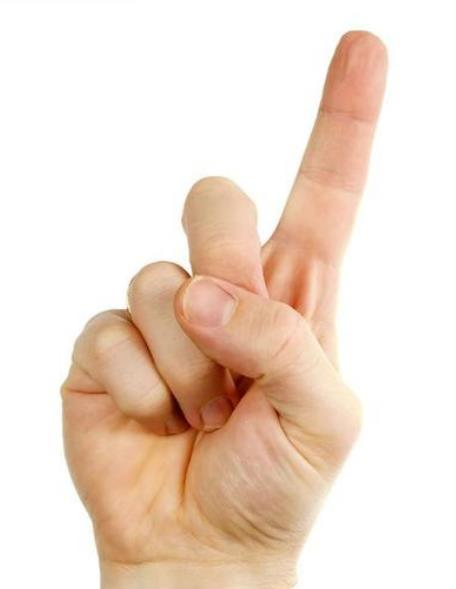up: (52, 29, 394, 562)
